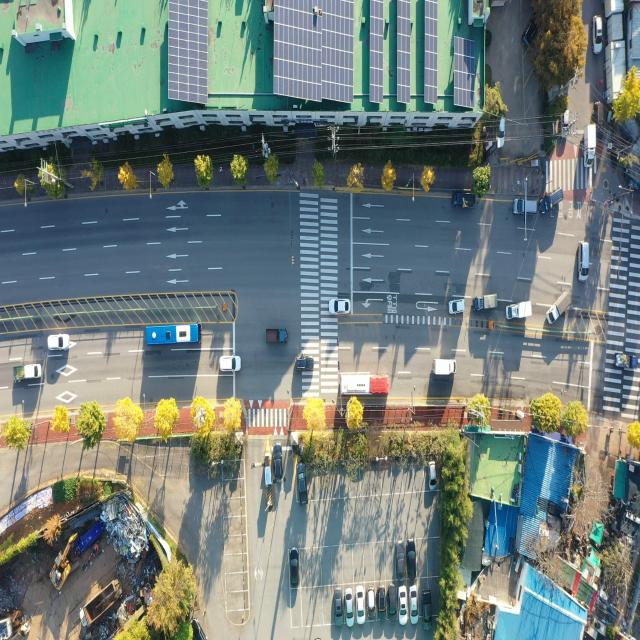car: (538, 186, 565, 218), (520, 18, 539, 48), (513, 197, 538, 219), (577, 239, 589, 283), (296, 464, 308, 507), (592, 12, 603, 56), (420, 589, 430, 629), (218, 354, 240, 372), (377, 583, 387, 622), (406, 536, 415, 579), (387, 584, 397, 621), (594, 102, 604, 138), (49, 335, 71, 351), (333, 587, 342, 626), (366, 585, 376, 620), (428, 457, 438, 492), (290, 549, 299, 587), (329, 300, 351, 315), (496, 115, 506, 148), (560, 107, 570, 140), (395, 540, 404, 576), (273, 444, 282, 480), (398, 588, 406, 624), (356, 587, 364, 623), (346, 589, 354, 624), (411, 588, 418, 623), (298, 357, 315, 370), (449, 301, 464, 315)
large_bus: (145, 319, 203, 347), (338, 372, 391, 398)
small_truck: (547, 289, 572, 324), (506, 298, 534, 322), (13, 362, 42, 383), (584, 122, 596, 164), (614, 352, 640, 371), (473, 295, 497, 313), (452, 193, 477, 210), (432, 357, 455, 375), (268, 324, 290, 340)
